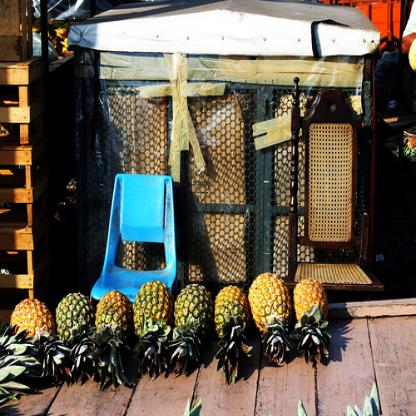chair: (283, 78, 384, 300), (86, 172, 179, 303)
